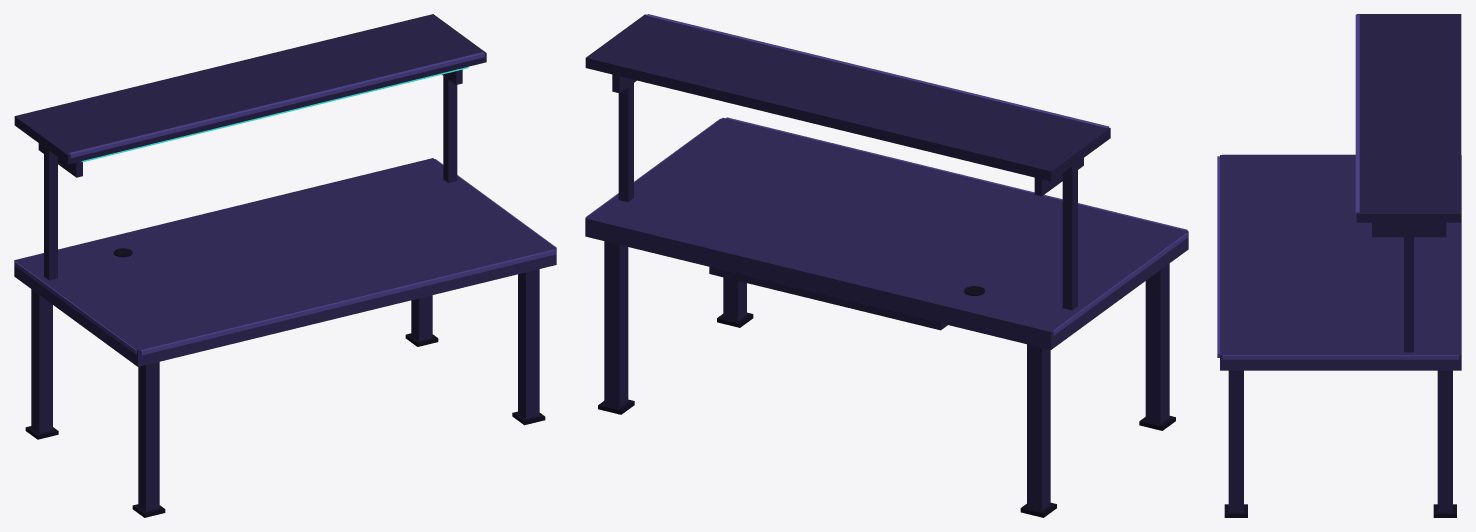
File: desk.glb
3 views of the same model, side by side, from view 1: azimuth 30°, elevation 25°; view 2: azimuth 150°, elevation 25°; view 3: azimuth 270°, elevation 25° (orthographic). The views are drawn at different scales.
Visible parts, largest first — view 1: desk; view 2: desk; view 3: desk.
Part boxes in pixels (x1,y1,x2,y2): desk: (14,14,556,517); desk: (585,14,1188,517); desk: (1217,14,1461,517).
Bounding box in the file's own units: 1.92 × 1.38 × 0.9888.
